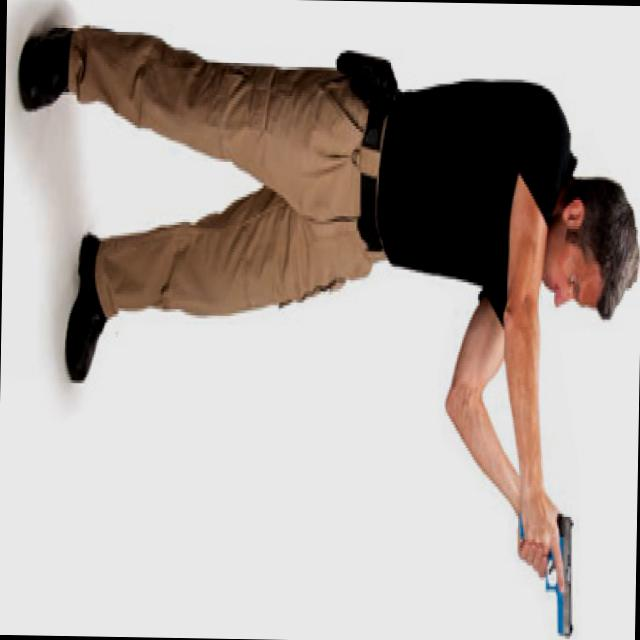handgun: (514, 510, 576, 636)
